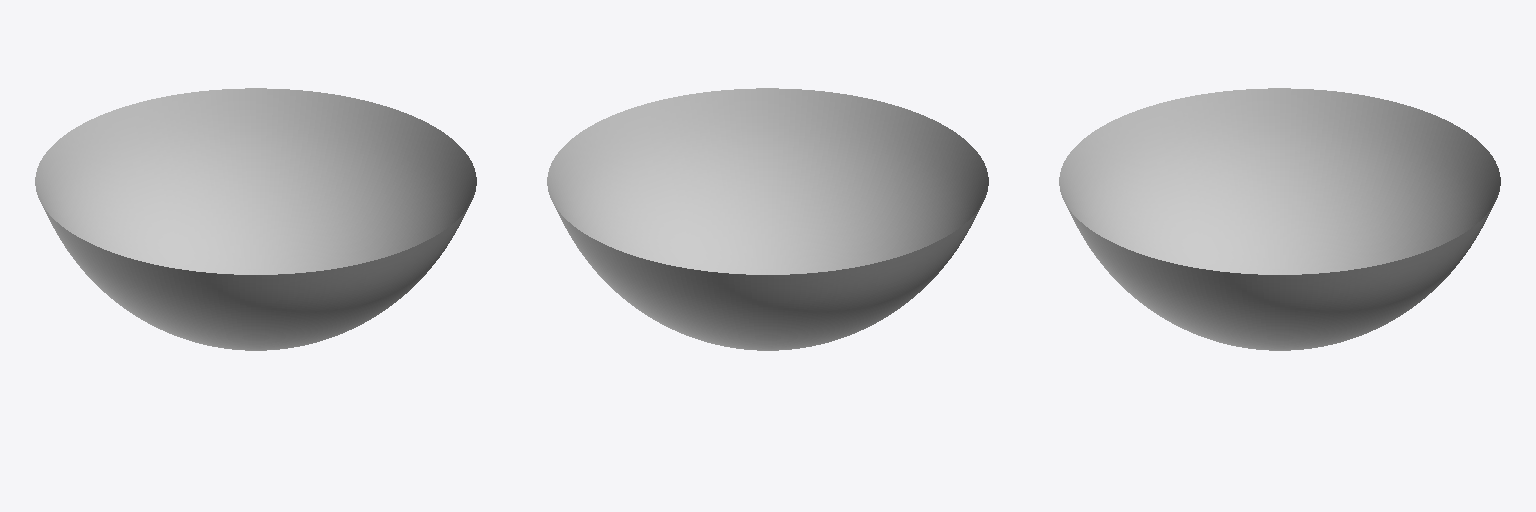
Rendered from SimpleMap.obj.
3 views of the same model, side by side, from view 1: azimuth 30°, elevation 25°; view 2: azimuth 150°, elevation 25°; view 3: azimuth 270°, elevation 25° (orthographic).
Parts seen in each view (by area): view 1: Sphere; view 2: Sphere; view 3: Sphere.
Part boxes in pixels (x1,y1,x2,y2): Sphere: (35,88,476,350); Sphere: (547,88,988,350); Sphere: (1059,88,1500,350).
Size of the model in its own units: 1.85 by 0.6863 by 1.85.